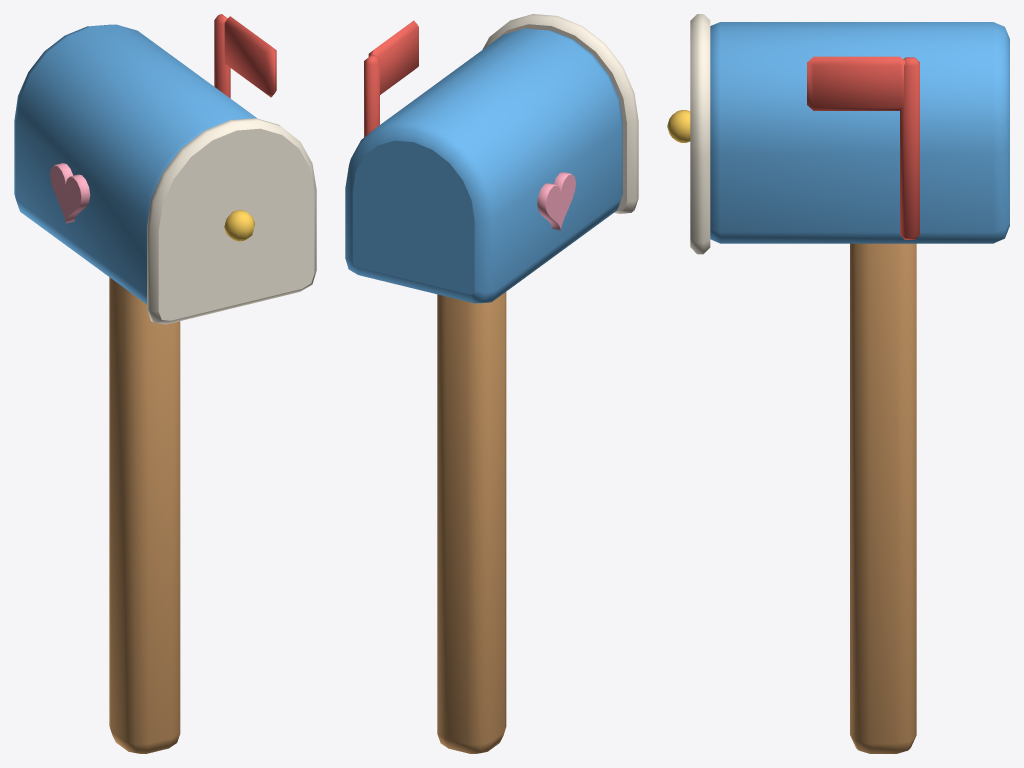
File: prop_mailbox.glb
The picture shows the model from 3 angles, left to right: view 1: azimuth 30°, elevation 25°; view 2: azimuth 150°, elevation 25°; view 3: azimuth 270°, elevation 25°; orthographic projection. The views are drawn at different scales.
Visible parts, largest first — view 1: prop_mailbox; view 2: prop_mailbox; view 3: prop_mailbox.
Part boxes in pixels (x1=…): prop_mailbox: x1=14, y1=14, x2=316, y2=753; prop_mailbox: x1=345, y1=14, x2=638, y2=753; prop_mailbox: x1=667, y1=14, x2=1009, y2=753.
Bounding box in the file's own units: 0.336 × 1.22 × 0.515.
